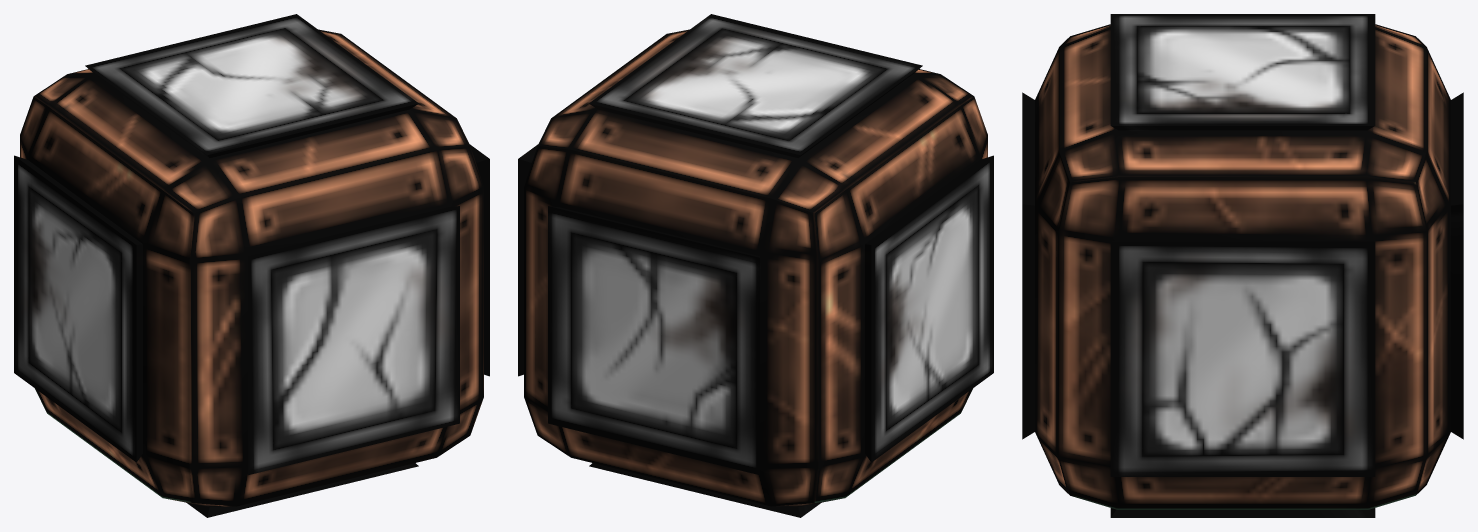
File: Glassbox test.fbx
The picture shows the model from 3 angles, left to right: view 1: azimuth 30°, elevation 25°; view 2: azimuth 150°, elevation 25°; view 3: azimuth 270°, elevation 25°; orthographic projection. The views are drawn at different scales.
Visible parts, largest first — view 1: pCube3; view 2: pCube3; view 3: pCube3.
Boxes of the visible parts, x1=… form: pCube3: x1=14, y1=14, x2=489, y2=517; pCube3: x1=518, y1=14, x2=993, y2=517; pCube3: x1=1022, y1=14, x2=1463, y2=517.
Size of the model in its own units: 1.59 by 1.56 by 1.59.
Materials: 1 (1 with a texture image).
